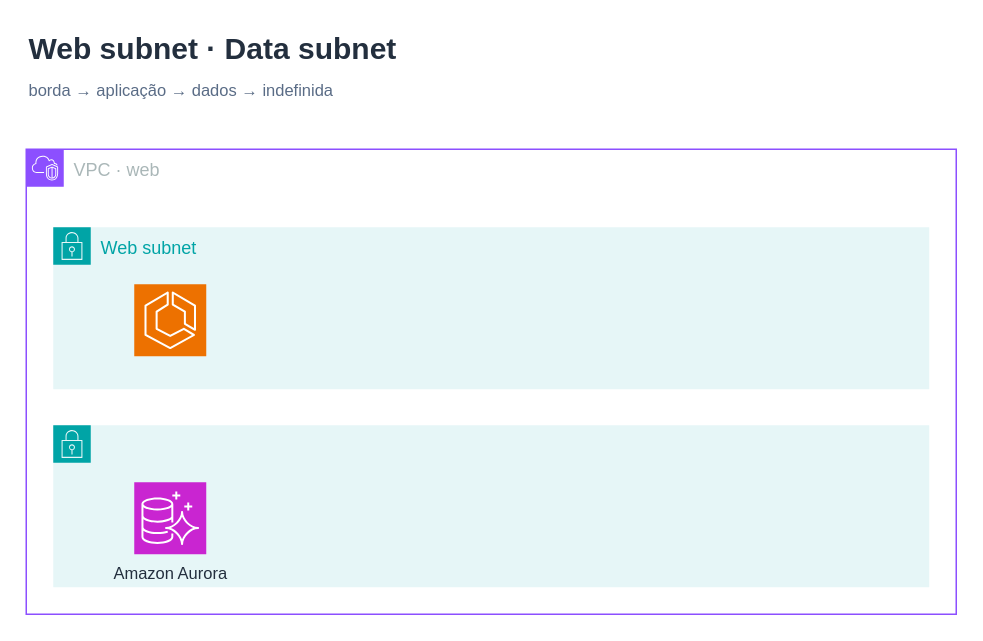
This 983x641 diagram has some shape labels left out. Here are the shapes that lost their labels. From the top down, the box of each, then its label:
(133, 283, 206, 356): Amazon ECS
(52, 424, 929, 587): Data subnet
